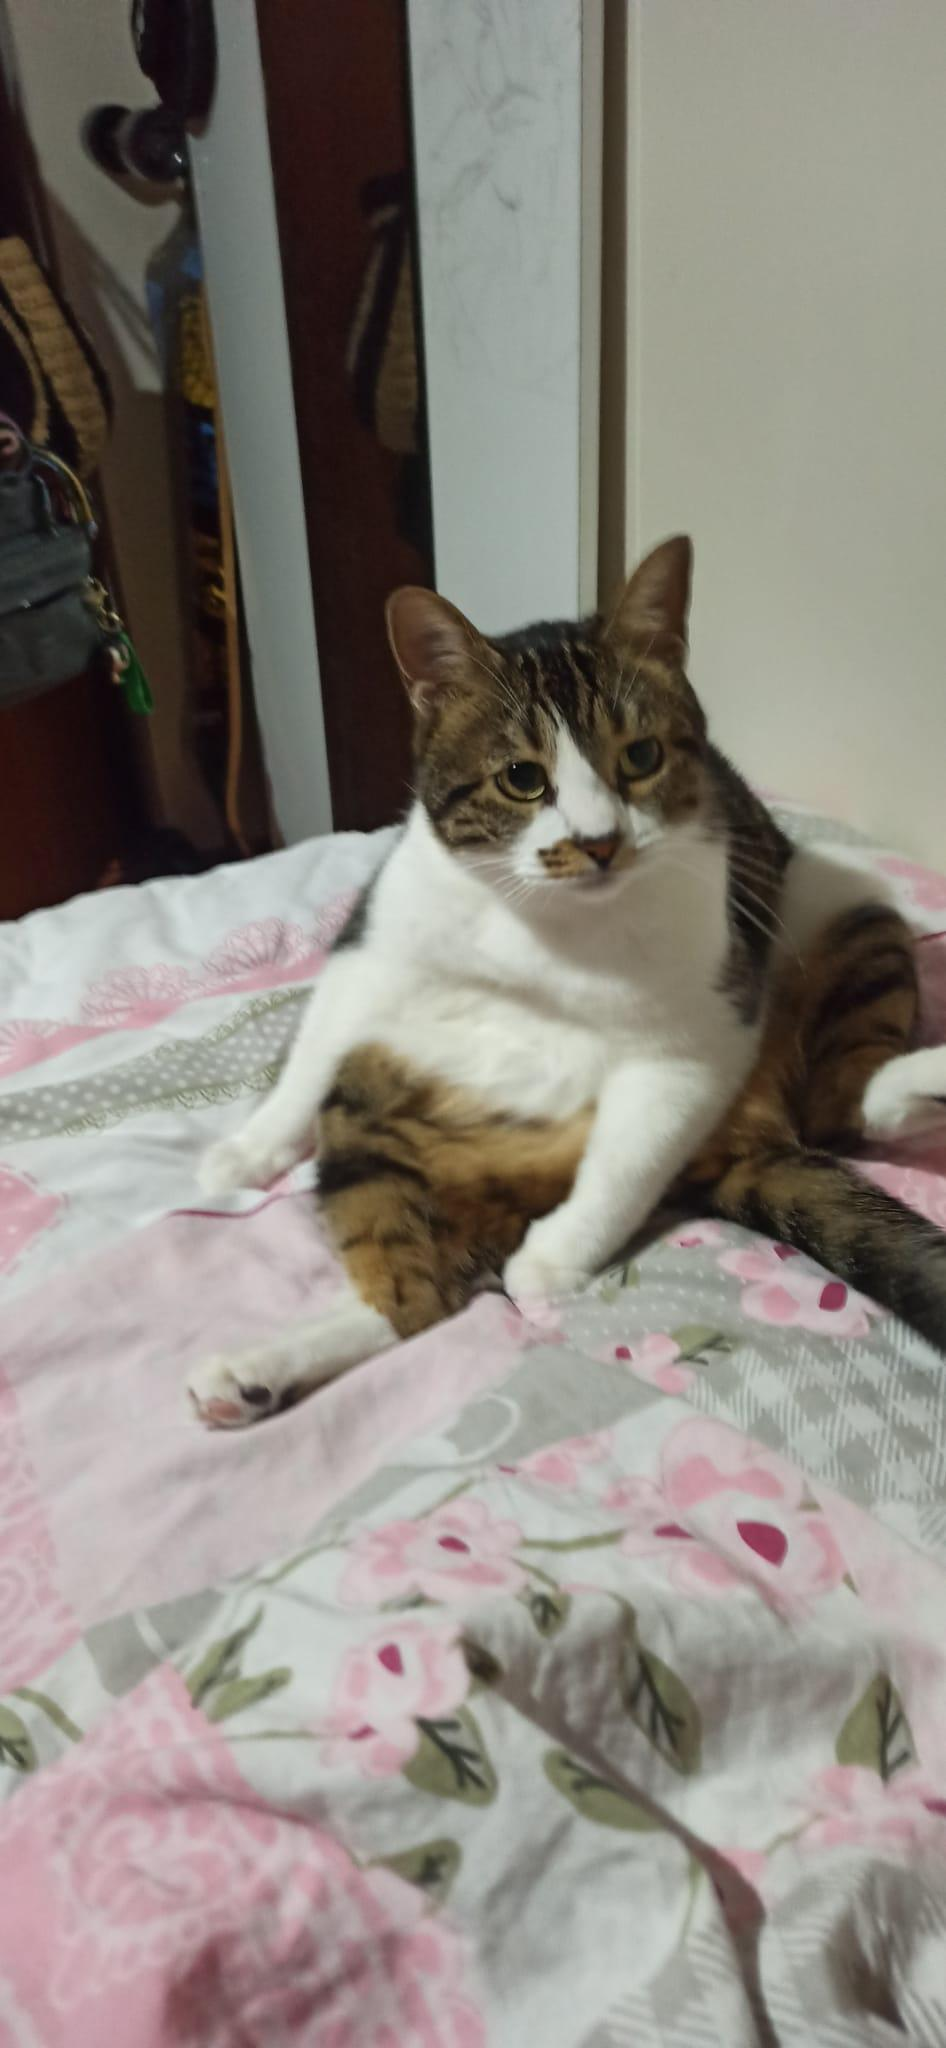kedo: (186, 541, 946, 1428)
